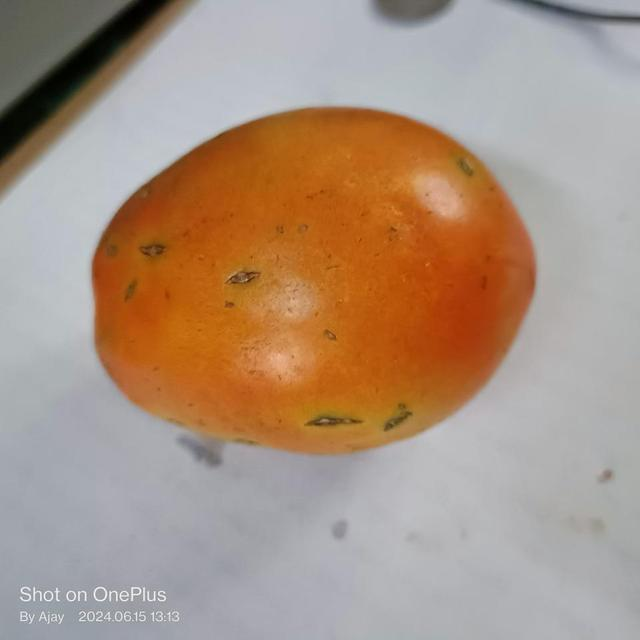Bacterial Spot Fruit: (23, 15, 266, 280)
